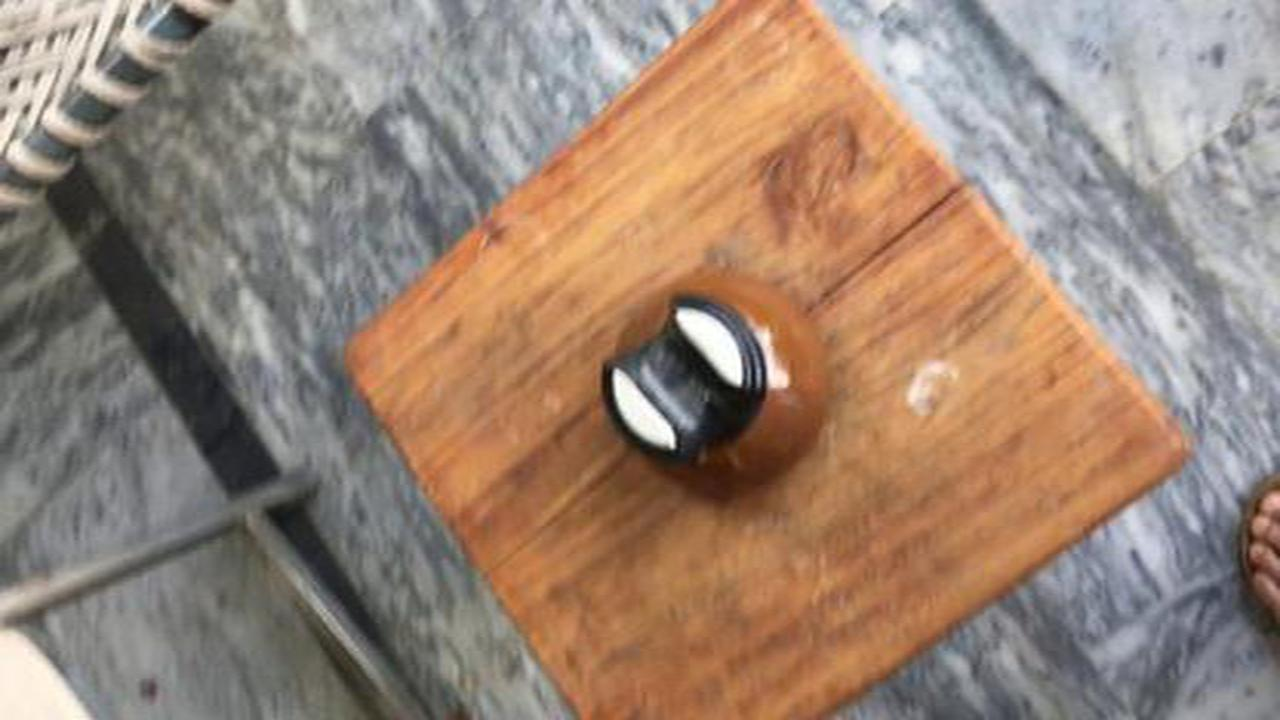insulator_pin: (579, 262, 865, 513)
